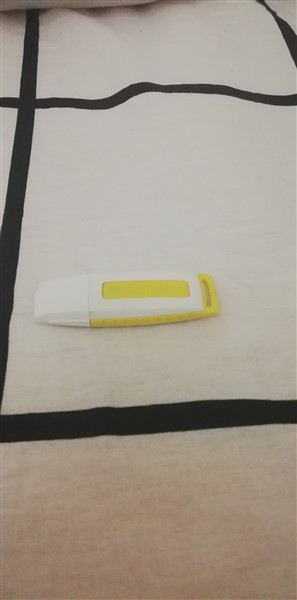flash disk: (26, 268, 230, 336)
